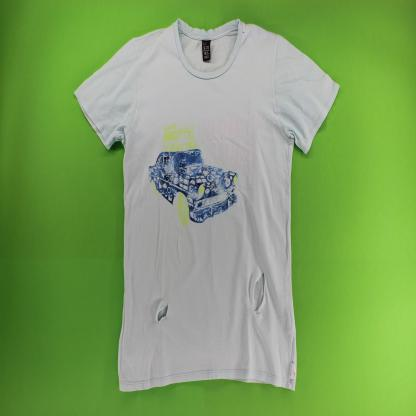hole: (252, 270, 266, 313), (156, 302, 169, 325)
